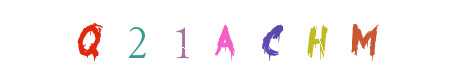1: (191, 0, 271, 80)
2: (176, 0, 256, 80)
A: (197, 0, 277, 80)
C: (204, 0, 284, 80)
H: (276, 0, 356, 80)
M: (288, 0, 368, 80)
Q: (49, 0, 129, 80)
